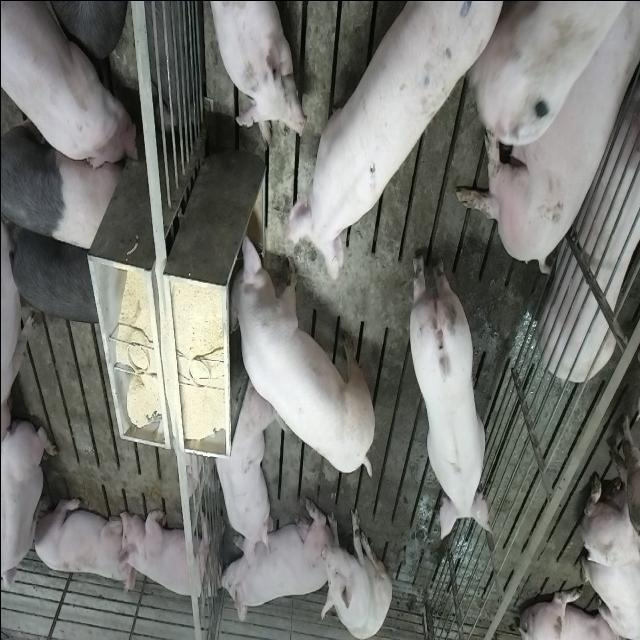Feeding: (220, 226, 370, 476)
Lateral_lying: (452, 6, 636, 278), (537, 61, 640, 380)
Sitting: (320, 504, 391, 638)
Standing: (275, 0, 516, 281), (472, 3, 640, 161), (407, 243, 490, 536), (2, 0, 139, 173), (2, 97, 123, 256), (4, 214, 106, 326)
Sternal_lying: (204, 0, 302, 142), (216, 502, 326, 628), (210, 382, 272, 563), (117, 502, 215, 604), (2, 416, 56, 601), (31, 491, 130, 588)
